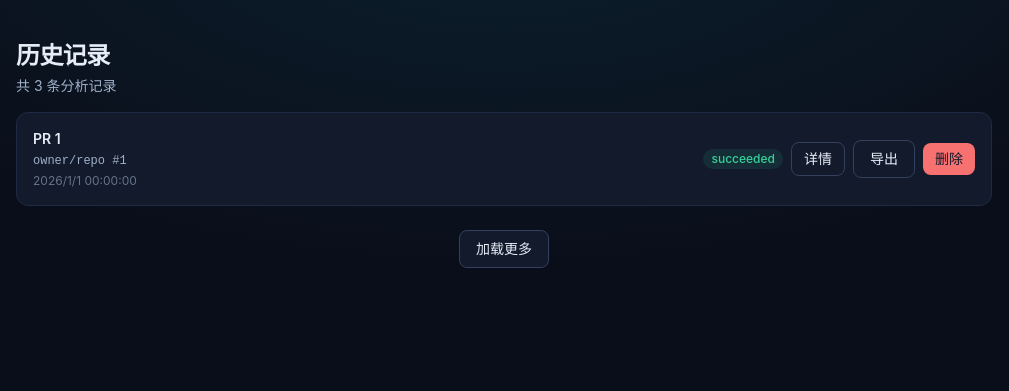
Scenario: HistoryPage › loads the next page and appends items when 加载更多 is clicked
Expected: the heading "PR 1" is shown, [33,130,61,147]
What coordinates should you click on to do the following:
click the button "加载更多"
I would click on:
 (504, 249)
Its box is [459,230,549,268].
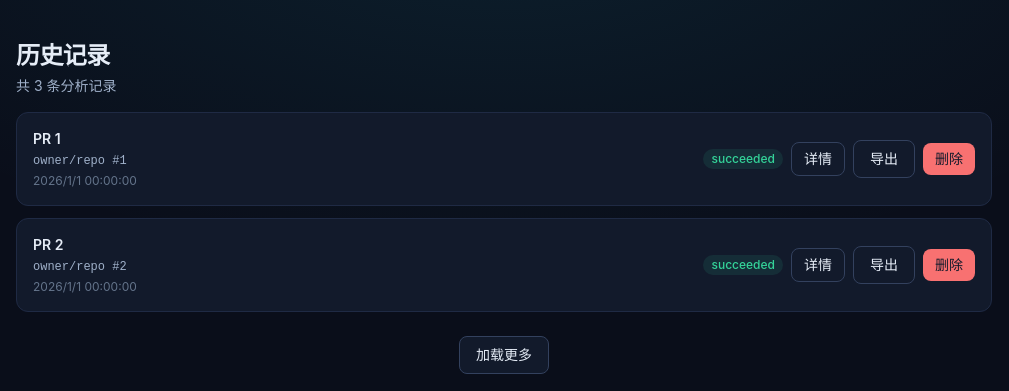
Expected: the heading "PR 1" is shown, [33,130,61,147]
Expected: the heading "PR 2" is shown, [33,236,63,253]
